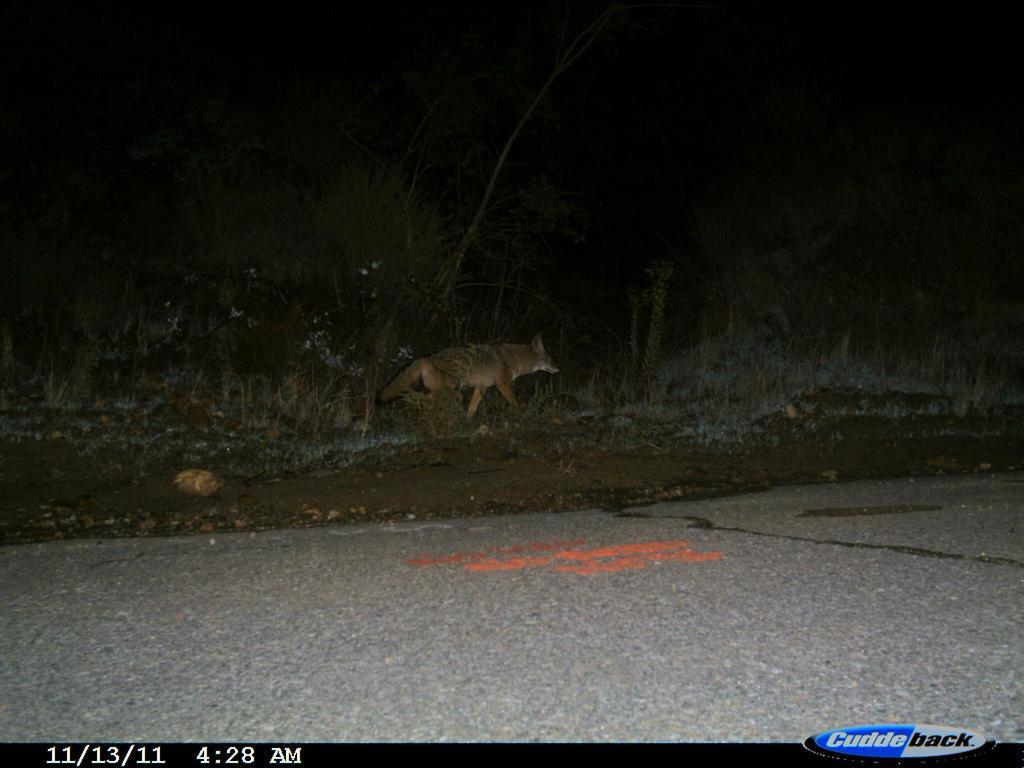coyote: (365, 329, 585, 433)
